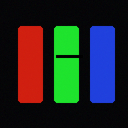3 line_h: (56, 55, 82, 57)
